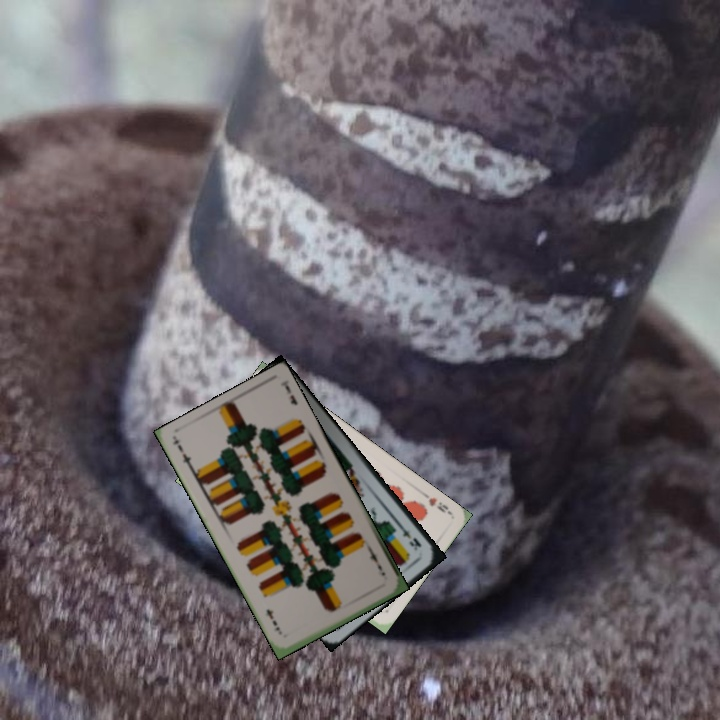E7: (173, 440, 197, 474), (365, 545, 388, 579)
EK: (395, 521, 424, 553)
H9: (418, 488, 453, 517)
